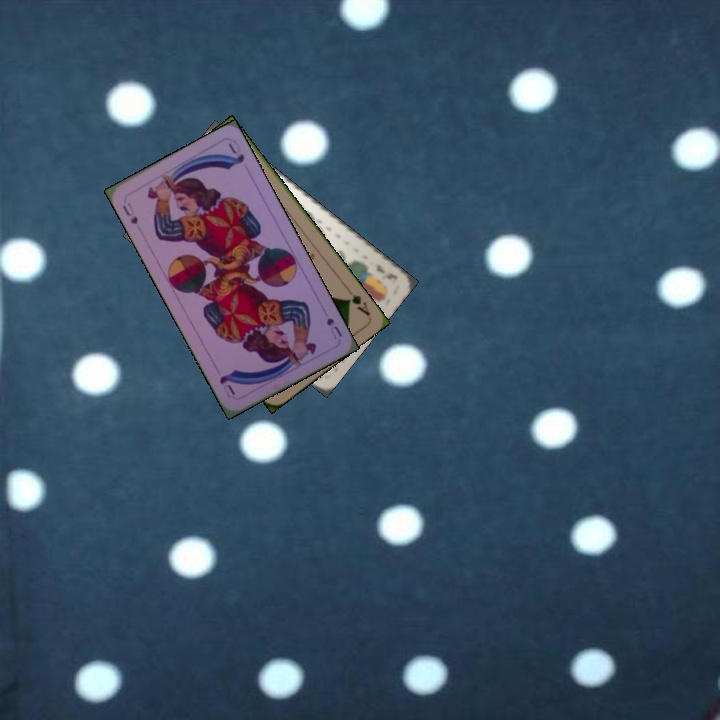EK: (372, 260, 401, 282)
GA: (343, 284, 373, 319)
SU: (322, 314, 344, 342), (119, 198, 140, 227)
